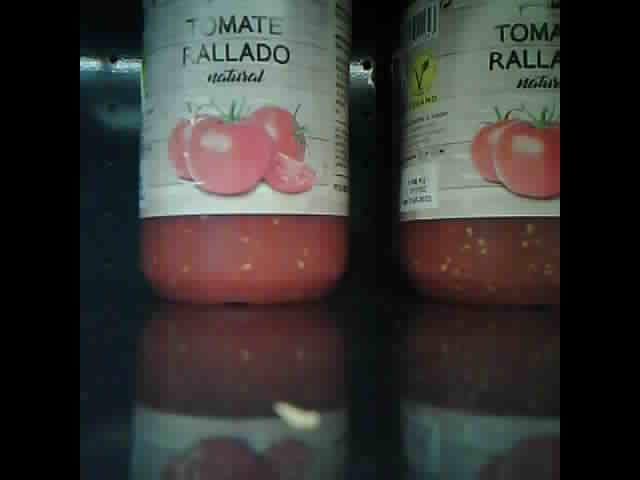tomate: (140, 4, 354, 305), (399, 4, 559, 308)
